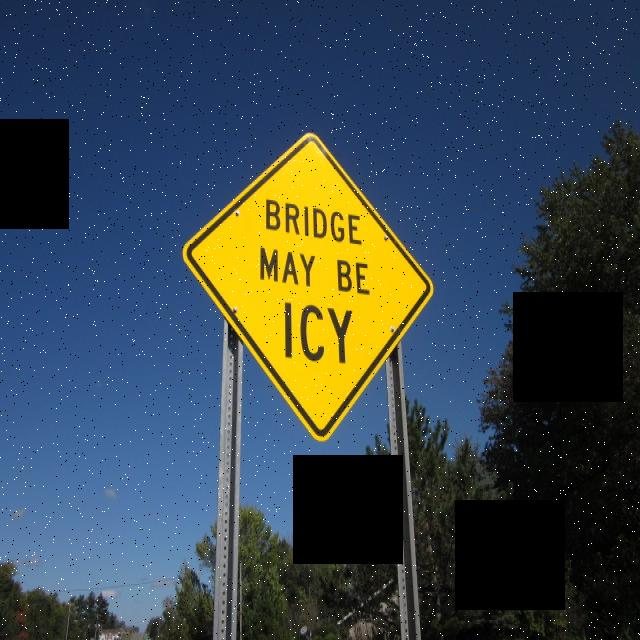warning: (180, 127, 437, 442)
